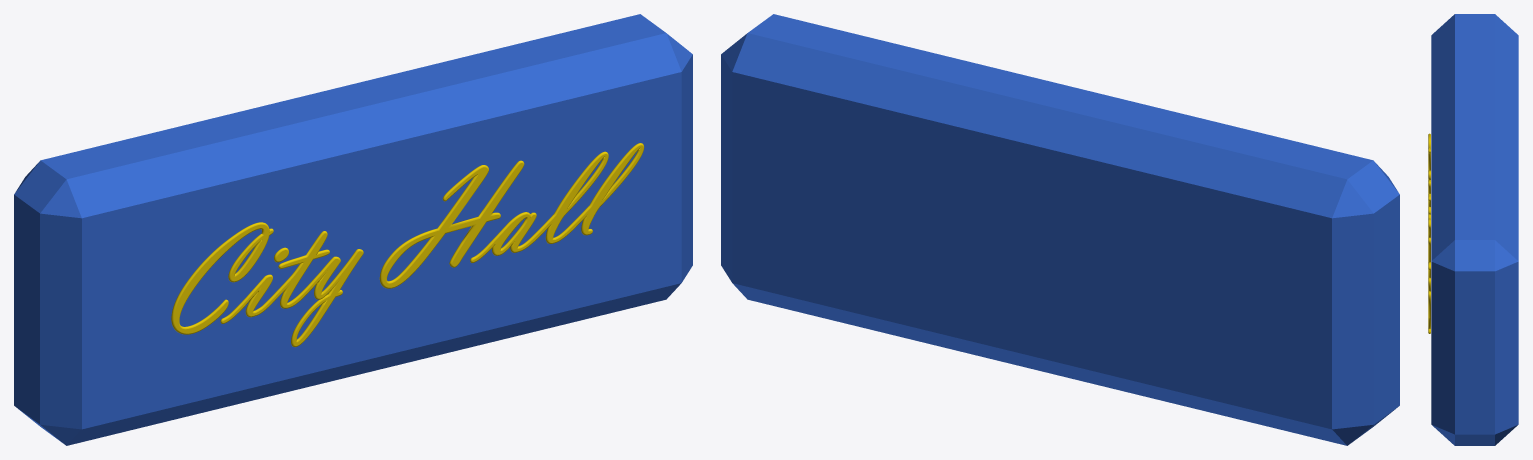
File: city hall sign.fbx
3 renders of one model, left to right at view 1: azimuth 30°, elevation 25°; view 2: azimuth 150°, elevation 25°; view 3: azimuth 270°, elevation 25°, orthographic. The views are drawn at different scales.
Visible parts, largest first — view 1: Cube, Text; view 2: Cube; view 3: Cube, Text.
Boxes of the visible parts, box(x1,y1,x2,y2) form: Cube: box(14, 14, 692, 445); Text: box(171, 143, 644, 347); Cube: box(721, 14, 1399, 445); Cube: box(1431, 14, 1518, 445); Text: box(1428, 133, 1430, 333).
Bounding box in the file's own units: 887 × 346 × 138.
